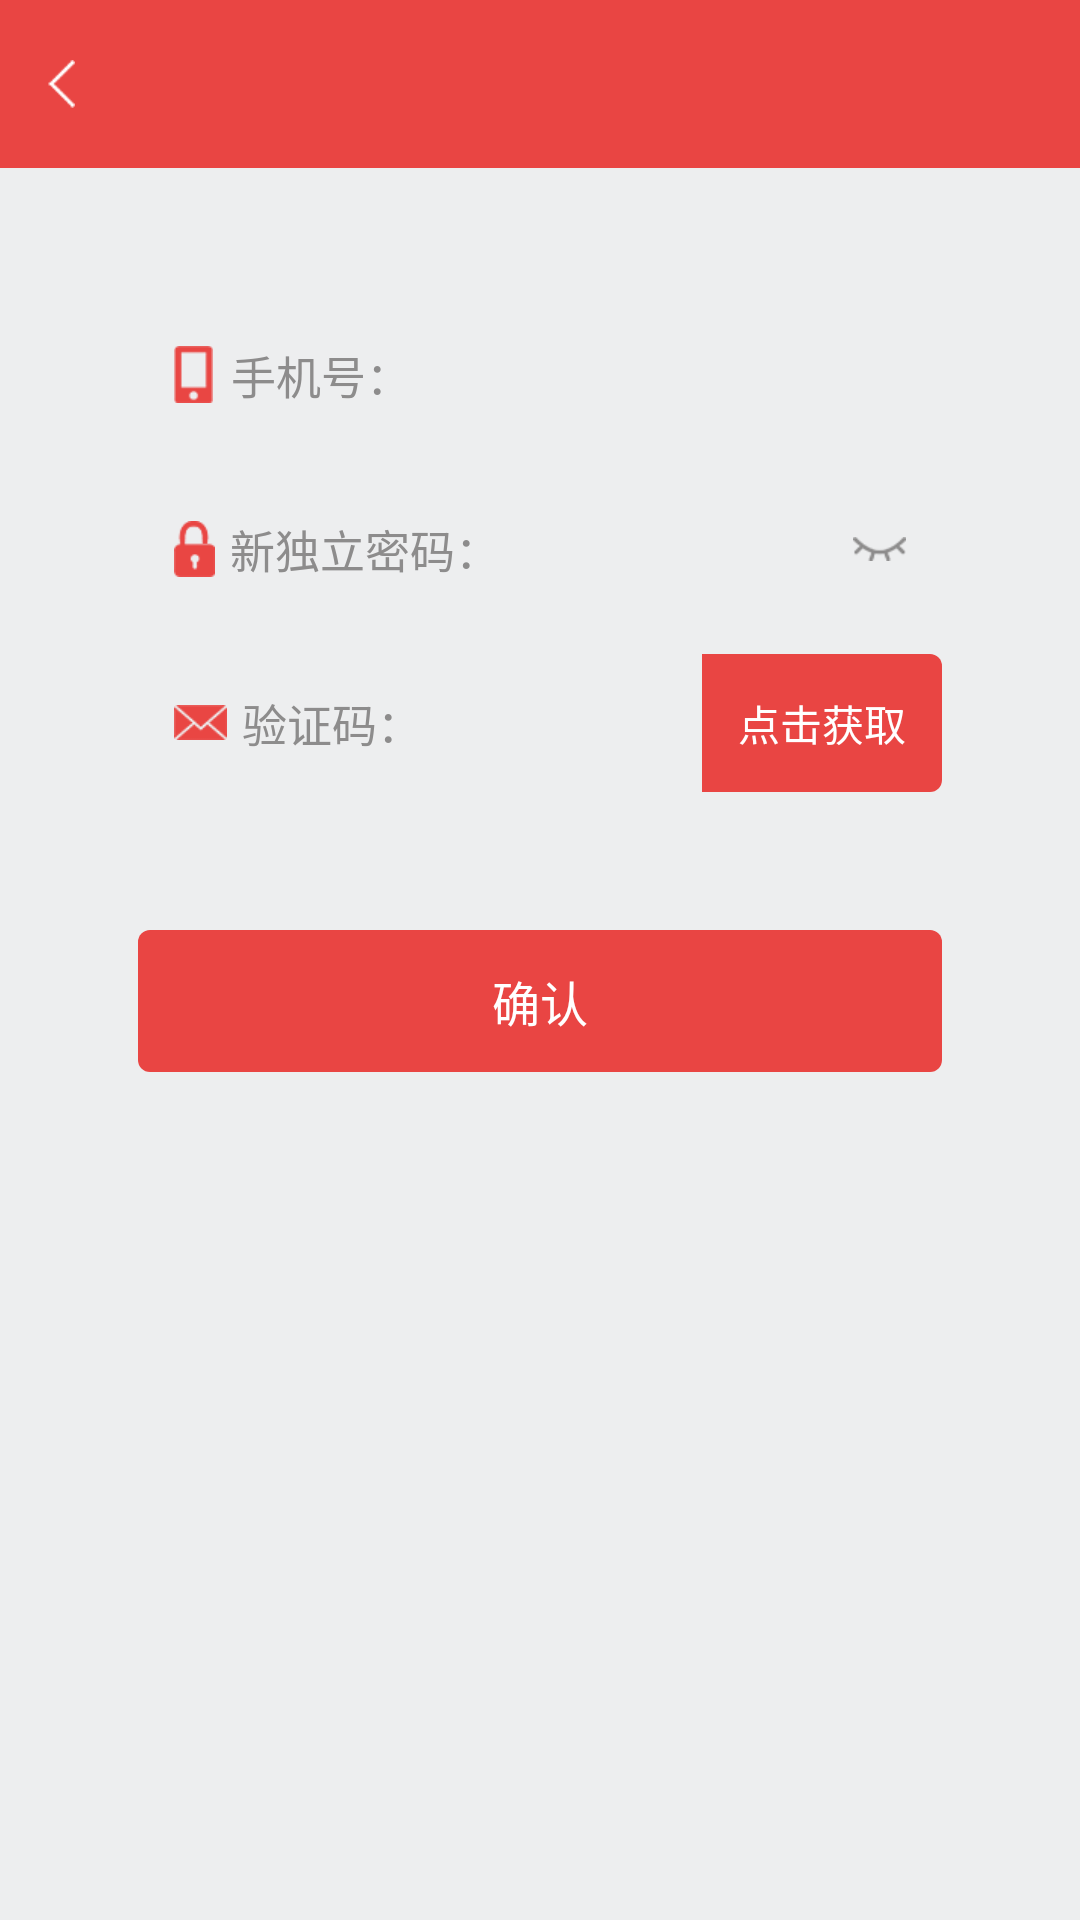

Icons on this 1080 × 1920 Android screen, each with the point to tap as (x,y):
back: (61,84)
yanjingbi: (879,549)
